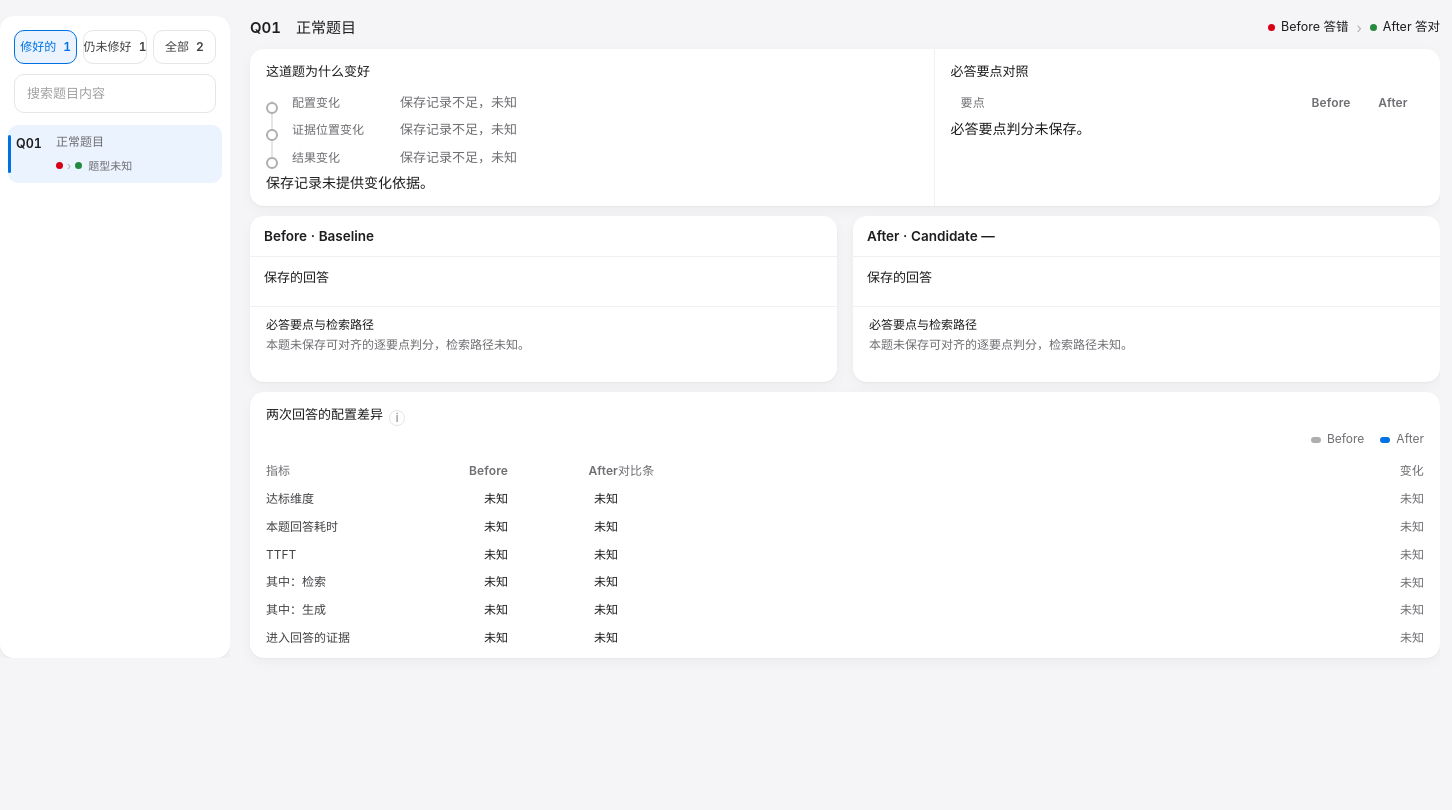
Test case: keeps the complete comparison list when one prefetched case fails and retries only on request
Click the button "仍未修好 1". click: {"x": 115, "y": 47}
box: x1=83 y1=30 x2=147 y2=64
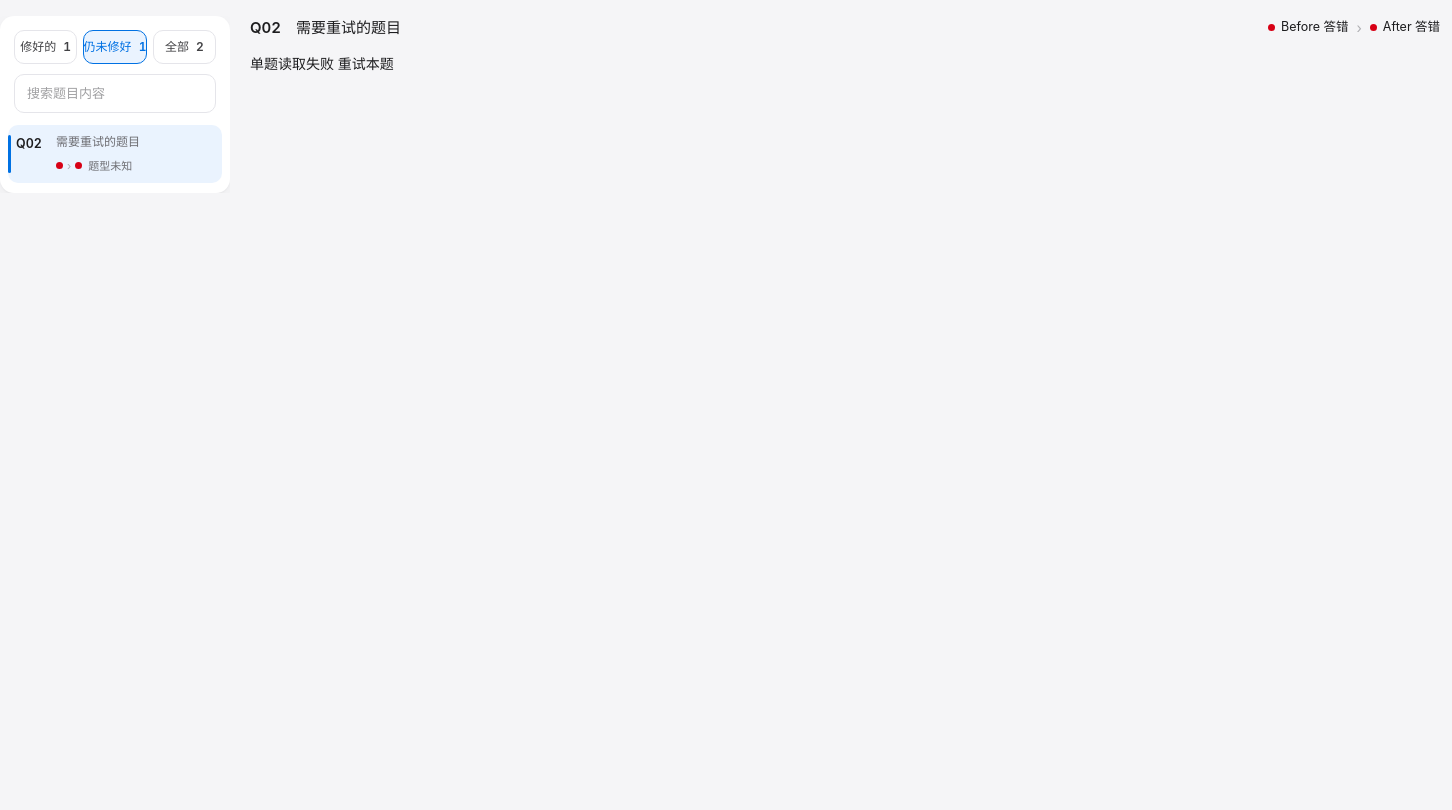
expect the list with class "comparison-qlist" shows "需要重试的题目": met, box x1=8 y1=125 x2=222 y2=183
expect the message "单题读取失败 重试本题" is shown: met, box x1=250 y1=49 x2=394 y2=78
Click the button "重试本题". click: {"x": 366, "y": 64}
box: x1=338 y1=49 x2=394 y2=78
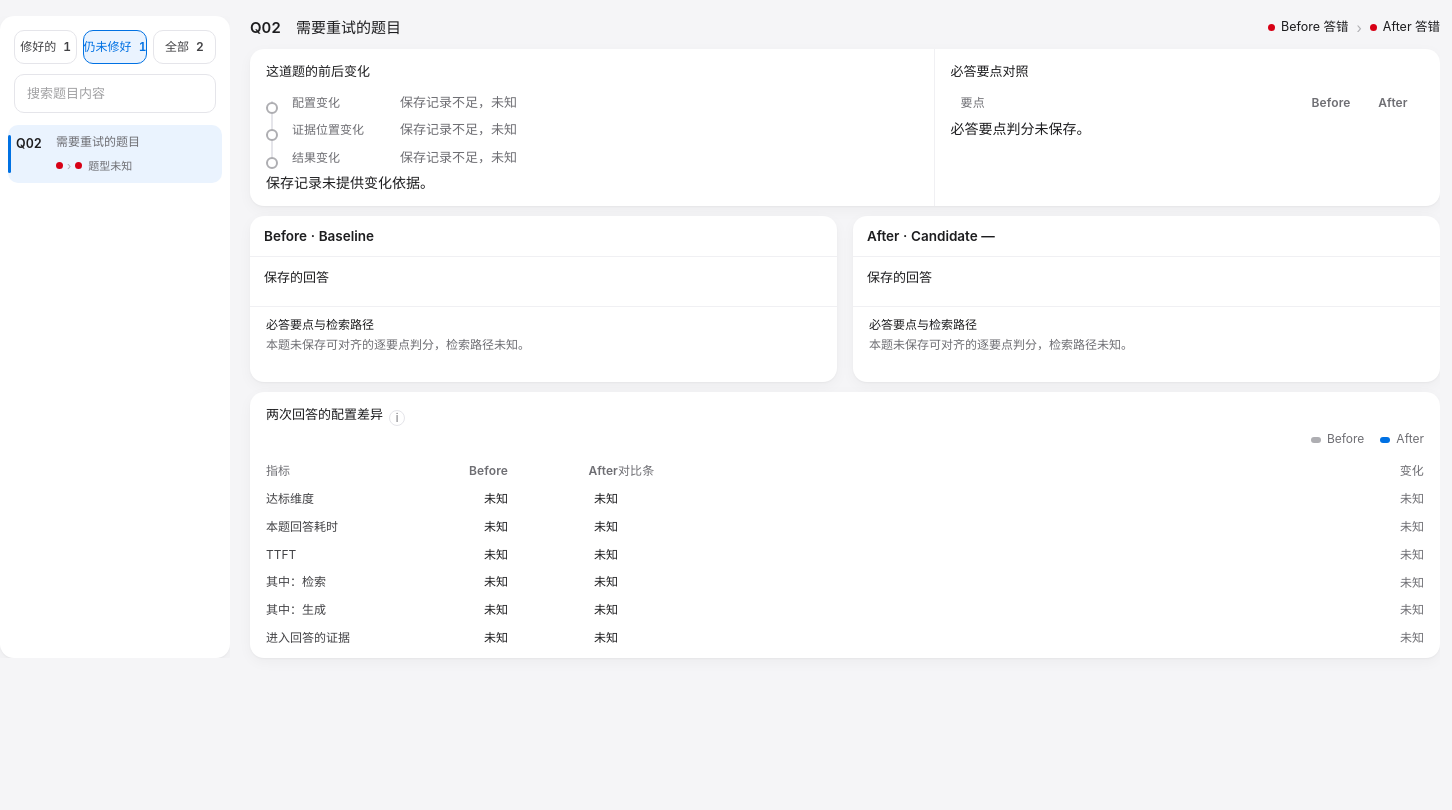
expect the message "单题读取失败 重试本题" is gone: met
expect the element with class "comparison-answers" shows "保存的回答": met, box x1=264 y1=269 x2=329 y2=285
